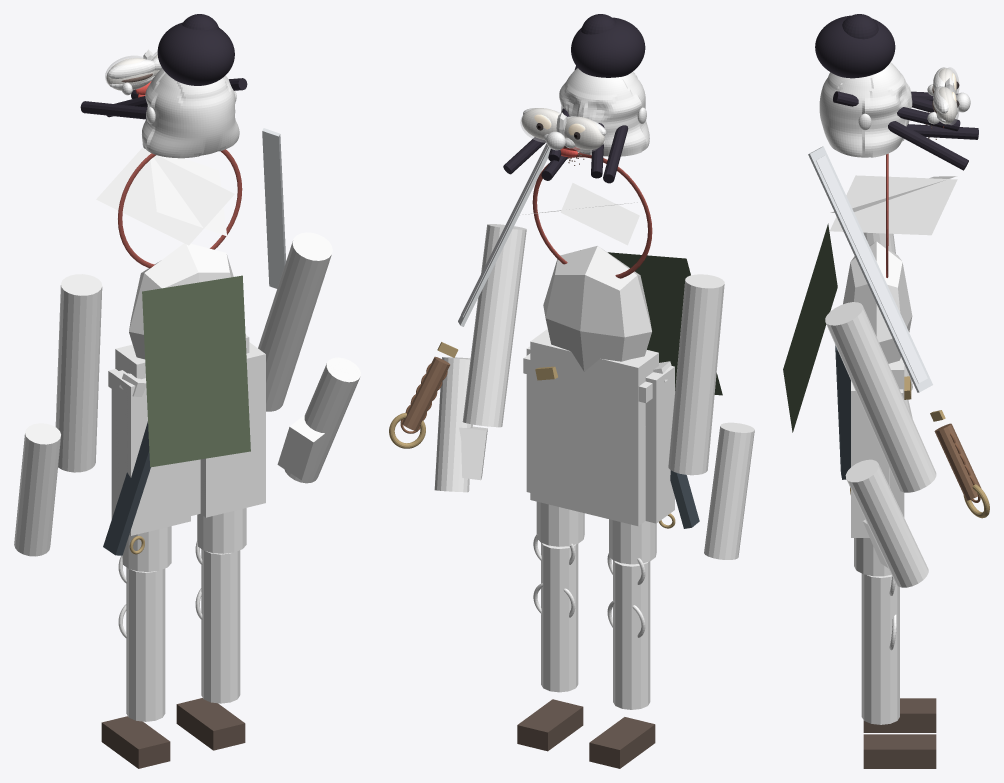
Rendered from ronin_character_v0.7.glb.
The picture shows the model from 3 angles, left to right: view 1: azimuth 30°, elevation 25°; view 2: azimuth 150°, elevation 25°; view 3: azimuth 270°, elevation 25°; orthographic projection. The views are drawn at different scales.
Parts seen in each view (by area): view 1: Cloth_Cloak_0, Cloth_SleeveUpper_L, Skin_Head, Cloth_Hem_1, Cloth_SleeveUpper_R, Cloth_TrouserShin_L, Cloth_TrouserShin_R, Cloth_Hem_2, Cloth_Lapel_L, Cloth_SleeveFore_L, Hair_Bun, Cloth_ShortTunic (+13 smaller); view 2: Cloth_Hem_0, Cloth_ShortTunic, Cloth_SleeveUpper_L, Cloth_SleeveUpper_R, Cloth_TrouserShin_R, Cloth_TrouserShin_L, Skin_Head, Cloth_SleeveFore_L, Cloth_Cloak_0, Cloth_Hem_1, Cloth_SleeveFore_R, Hair_Bun (+17 smaller); view 3: Cloth_SleeveUpper_R, Skin_Head, Cloth_TrouserShin_R, Cloth_Lapel_R, Cloth_SleeveFore_R, Cloth_Cloak_0, Hair_Bun, Cloth_ShortTunic, Metal_DaoEdge, Cloth_Shoe_R, Metal_DaoBlade, Cloth_Hem_2 (+13 smaller).
Part boxes in pixels (box(x1,y1,x2,y2)): Cloth_Cloak_0: box(142, 275, 250, 467); Cloth_SleeveUpper_L: box(55, 274, 102, 472); Skin_Head: box(142, 68, 239, 158); Cloth_Hem_1: box(111, 370, 190, 535); Cloth_SleeveUpper_R: box(258, 232, 332, 411); Cloth_TrouserShin_L: box(126, 567, 165, 721); Cloth_TrouserShin_R: box(201, 549, 240, 703); Cloth_Hem_2: box(200, 342, 265, 517); Cloth_Lapel_L: box(96, 148, 234, 245); Cloth_SleeveFore_L: box(14, 423, 60, 556); Hair_Bun: box(157, 22, 234, 85); Cloth_ShortTunic: box(129, 243, 233, 359); Cloth_Hem_0: box(530, 329, 658, 526); Cloth_ShortTunic: box(543, 245, 651, 371); Cloth_SleeveUpper_L: box(668, 274, 724, 475); Cloth_SleeveUpper_R: box(462, 224, 526, 427); Cloth_TrouserShin_R: box(541, 542, 578, 692); Cloth_TrouserShin_L: box(613, 560, 650, 709); Skin_Head: box(559, 68, 649, 156); Cloth_SleeveFore_L: box(704, 422, 754, 559); Cloth_Cloak_0: box(608, 252, 722, 395); Cloth_Hem_1: box(645, 363, 674, 523); Cloth_SleeveFore_R: box(434, 357, 472, 492); Hair_Bun: box(571, 17, 645, 77); Cloth_SleeveUpper_R: box(825, 302, 936, 492); Skin_Head: box(819, 62, 912, 157); Cloth_TrouserShin_R: box(861, 573, 899, 724); Cloth_Lapel_R: box(830, 175, 957, 235); Cloth_SleeveFore_R: box(845, 459, 928, 587); Cloth_Cloak_0: box(783, 223, 837, 432); Hair_Bun: box(815, 15, 895, 78); Cloth_ShortTunic: box(843, 241, 912, 363); Metal_DaoEdge: box(816, 155, 927, 383); Cloth_Shoe_R: box(863, 734, 936, 768); Metal_DaoBlade: box(808, 146, 932, 392); Cloth_Hem_2: box(851, 381, 889, 537).
Size of the model in its own units: 0.8704 by 1.89 by 0.4851.
